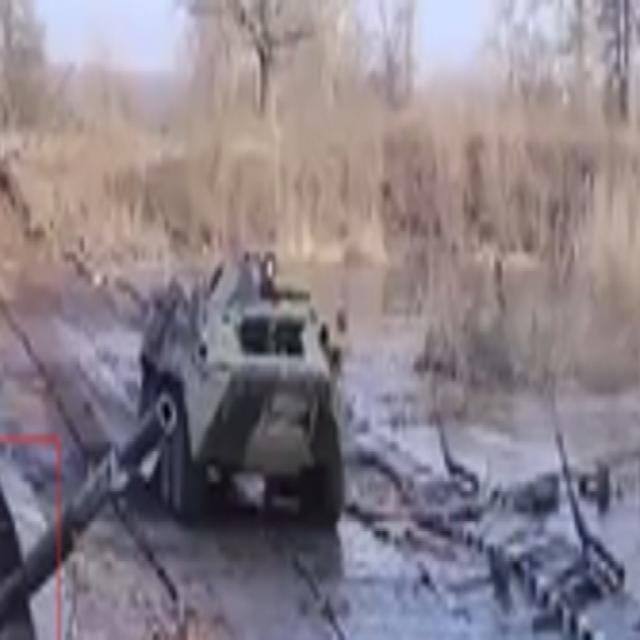APC-IFV: (130, 238, 346, 540)
